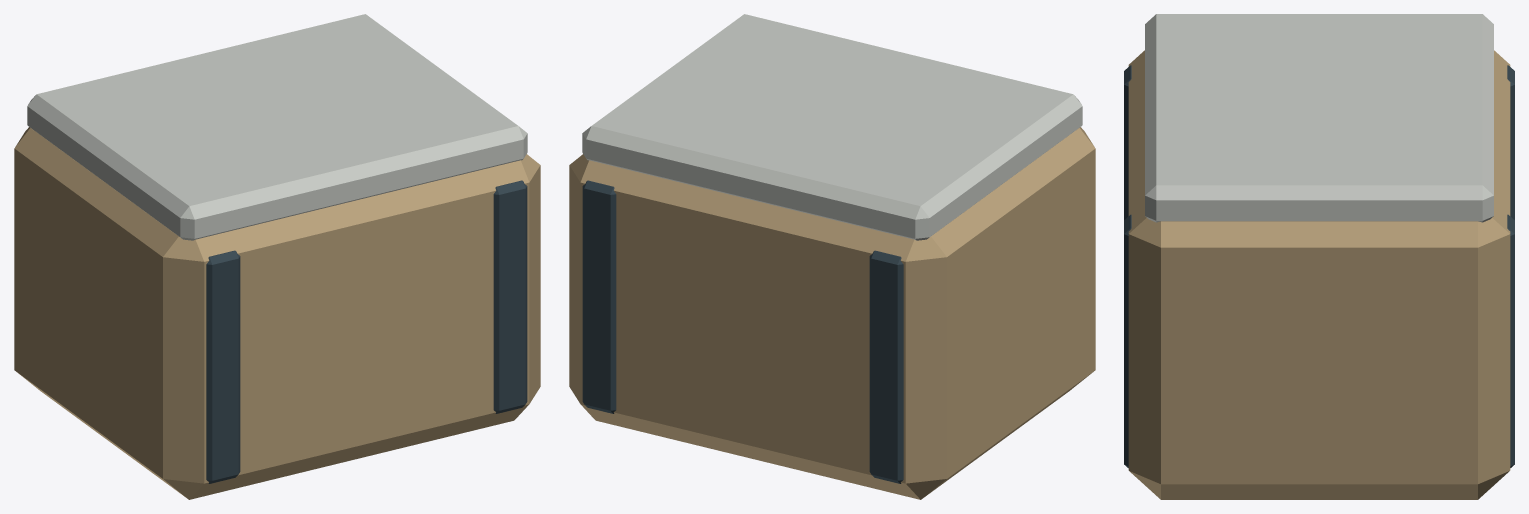
Rendered from phw_crate_s.glb.
3 views of the same model, side by side, from view 1: azimuth 30°, elevation 25°; view 2: azimuth 150°, elevation 25°; view 3: azimuth 270°, elevation 25° (orthographic). The views are drawn at different scales.
Parts seen in each view (by area): view 1: body; view 2: body; view 3: body.
Part boxes in pixels (box(x1,y1,x2,y2)): body: box(14, 14, 540, 499); body: box(569, 14, 1095, 499); body: box(1124, 14, 1514, 499).
Bounding box in the file's own units: 0.36 × 0.2695 × 0.3024.
